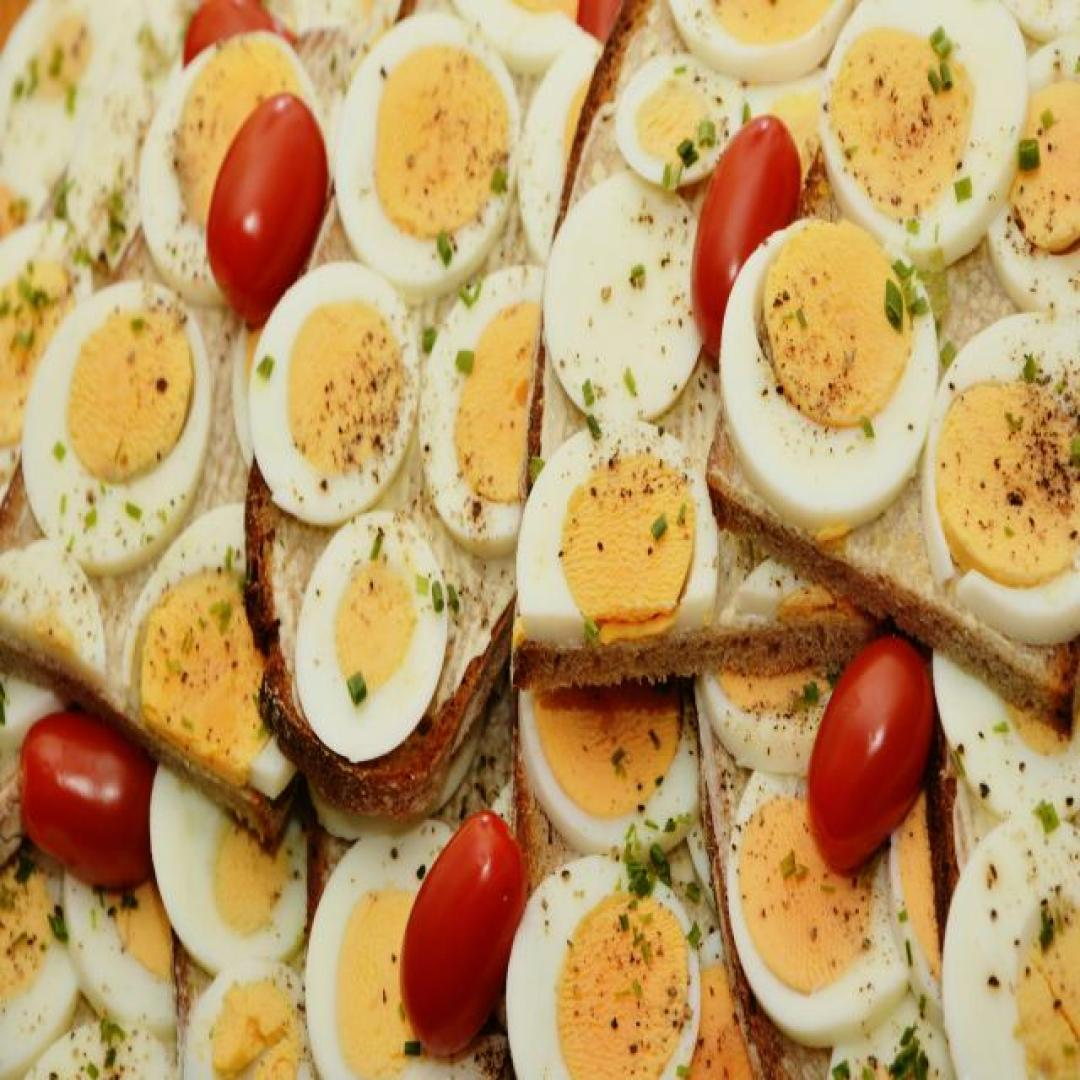matang: (400, 813, 530, 1053), (808, 631, 934, 862), (206, 94, 331, 318), (692, 113, 805, 354), (18, 708, 164, 888)
